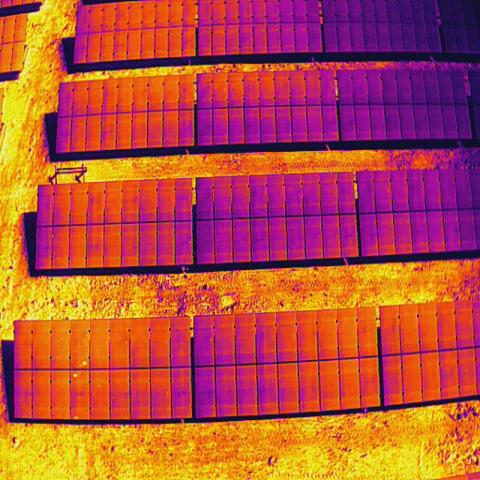fault: (81, 360, 88, 367), (72, 372, 79, 379), (72, 415, 80, 421), (51, 232, 55, 240)
